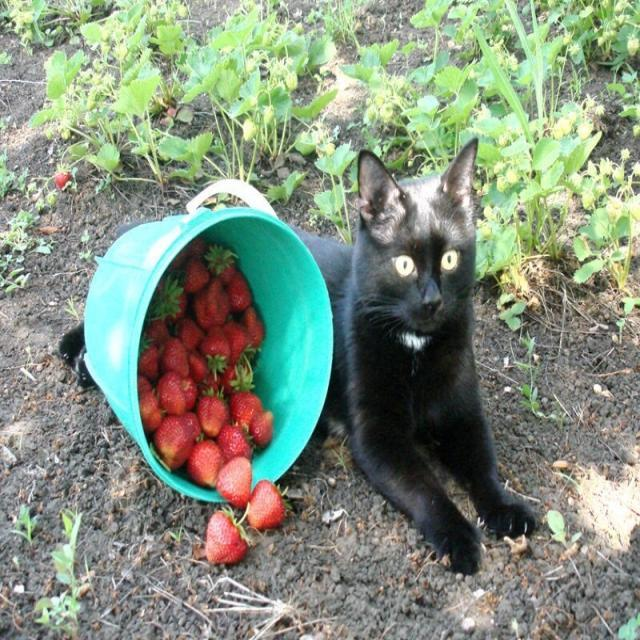Cats: (322, 142, 520, 570)
